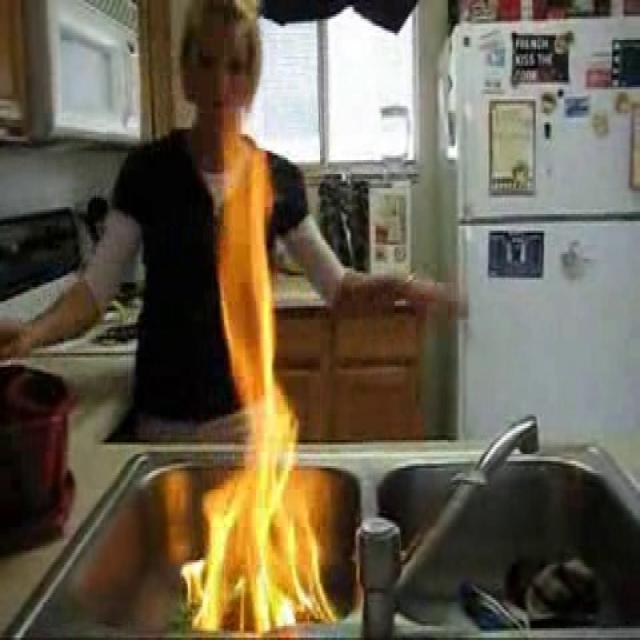Fire: (195, 148, 326, 614)
